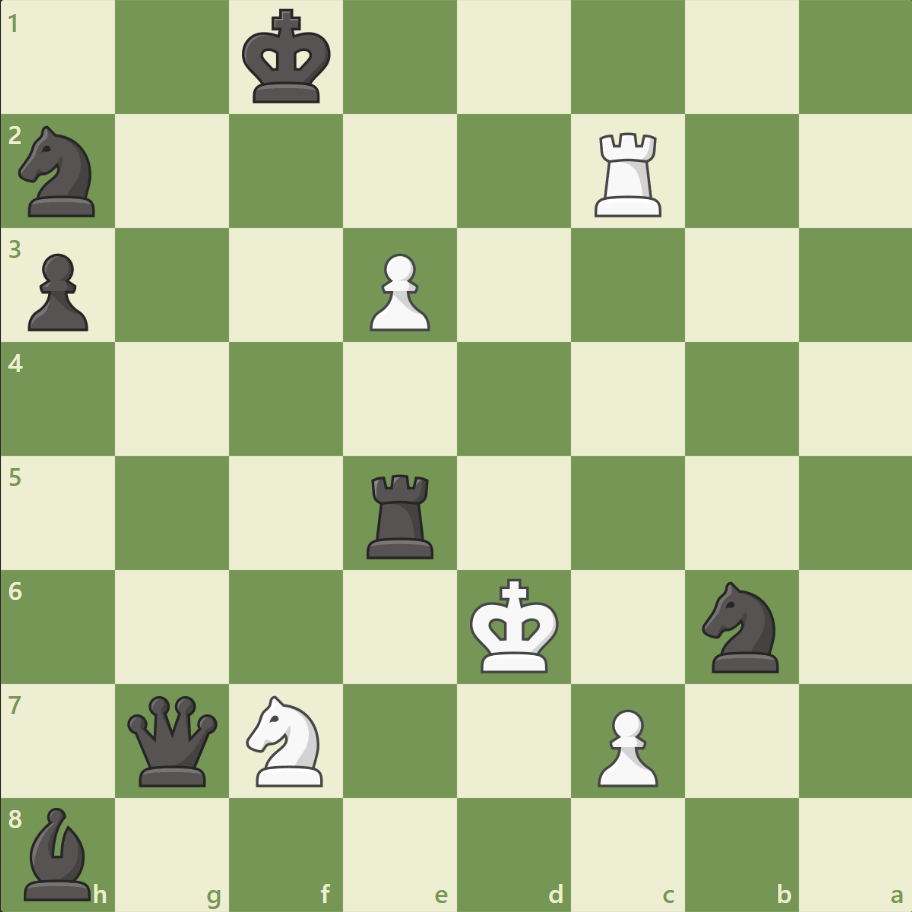K: (465, 571, 565, 679)
N: (238, 688, 335, 791)
P: (588, 700, 662, 791), (361, 246, 435, 337)
R: (587, 125, 670, 222)
b: (17, 801, 101, 904)
k: (238, 4, 338, 112)
n: (692, 575, 789, 677), (11, 121, 108, 223)
p: (20, 246, 95, 337)
q: (124, 690, 223, 789)
r: (360, 466, 442, 563)
